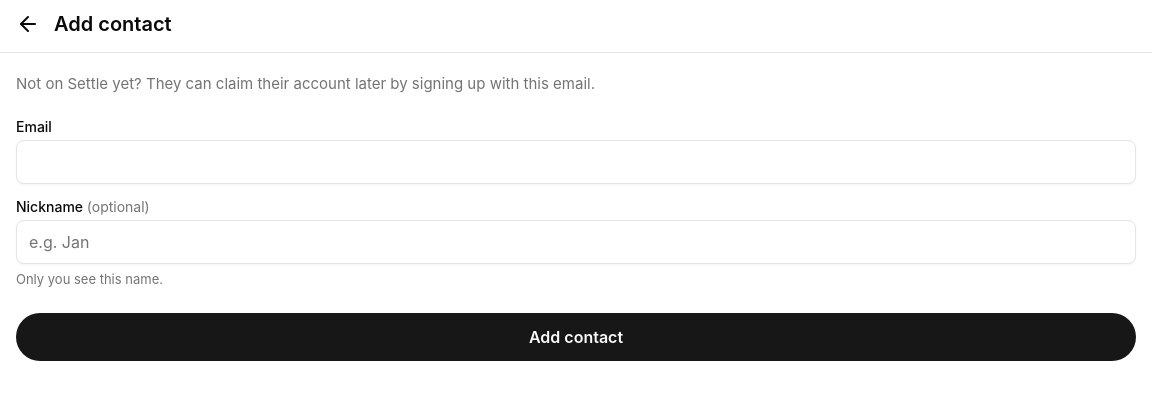
Test: AddContactPage › shows a generic error when the request fails unexpectedly
The image size is (1152, 416).
Type "jan@example.com" into the field labelled "Email".
click(576, 162); type("jan@example.com")  # box [16, 140, 1136, 184]
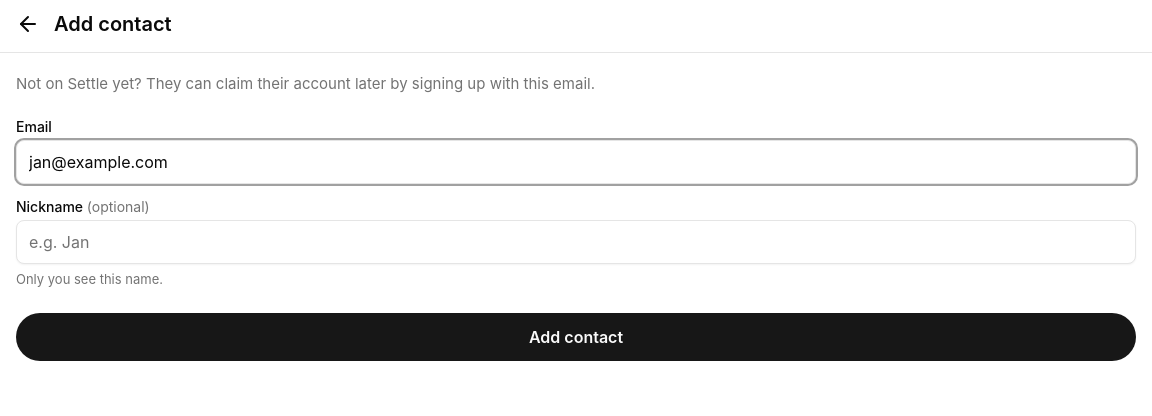
Click the button "Add contact".
click(576, 337)  # box [16, 313, 1136, 361]
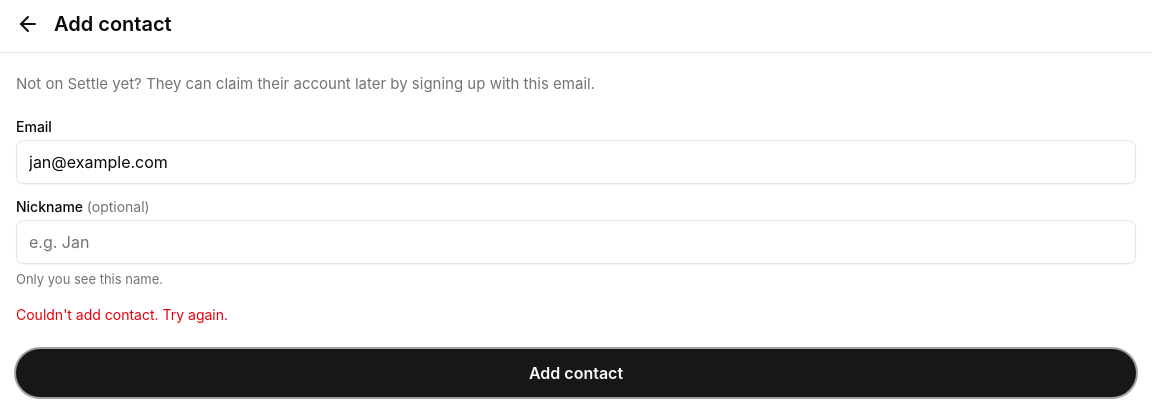
Expected: the message reads "Couldn't add contact. Try again.", [16, 306, 228, 323]
